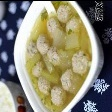dongguawanzi: (22, 0, 92, 112)
